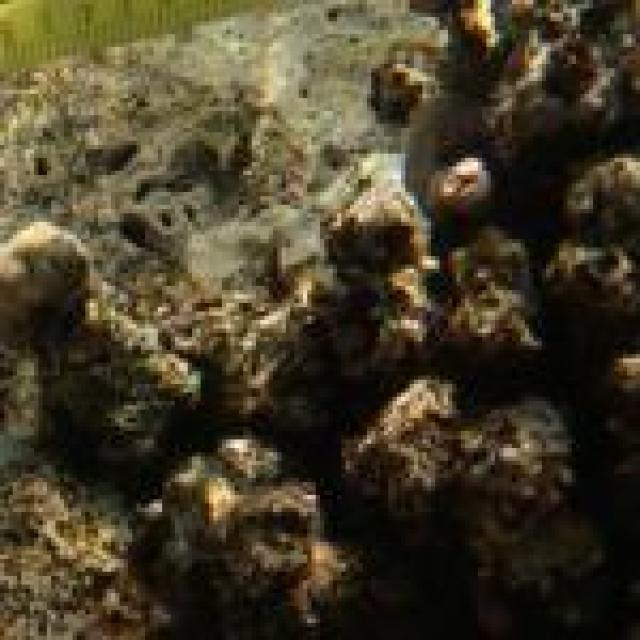Dead Coral: (116, 440, 373, 615), (367, 373, 583, 562), (47, 300, 198, 479), (329, 197, 438, 348), (451, 215, 535, 366), (560, 158, 640, 307)
